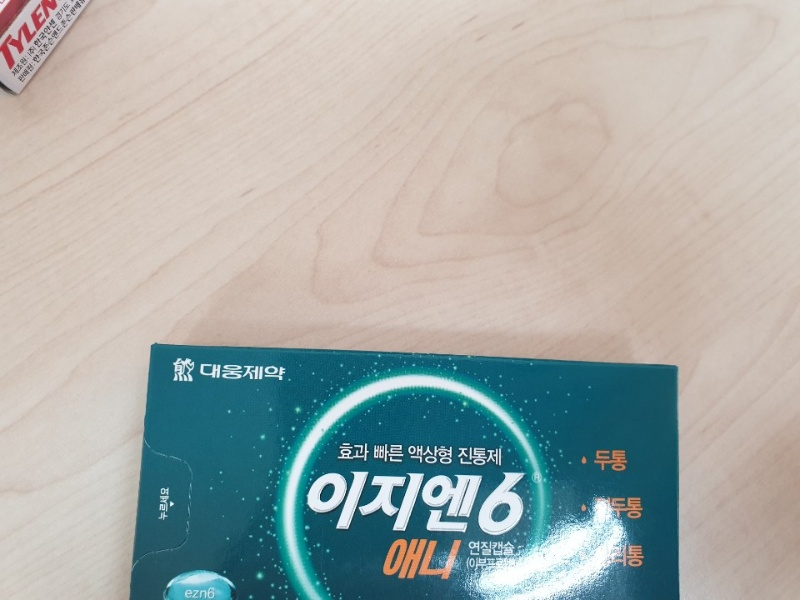ezn: (130, 344, 680, 600)
